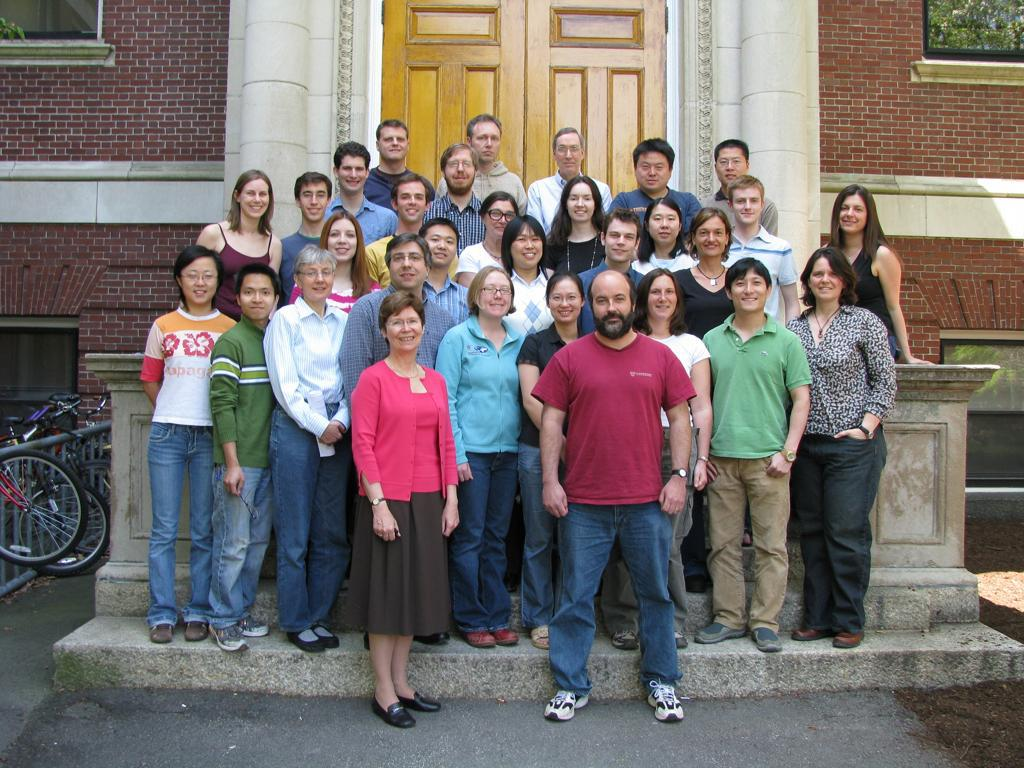face: (591, 282, 632, 334), (179, 261, 218, 303), (385, 310, 424, 350), (389, 246, 426, 286), (240, 278, 275, 320), (730, 275, 766, 311), (298, 261, 332, 299), (550, 284, 582, 323), (481, 276, 511, 317), (645, 280, 677, 318), (809, 264, 844, 298), (635, 154, 669, 189), (511, 229, 543, 266), (425, 228, 457, 265), (694, 220, 726, 256), (485, 204, 518, 238), (648, 208, 680, 243), (605, 224, 636, 260), (731, 188, 761, 224), (717, 150, 747, 186), (397, 185, 426, 221), (300, 184, 328, 221), (240, 184, 270, 218), (328, 224, 357, 259), (837, 199, 867, 232), (565, 187, 594, 221), (446, 155, 475, 189), (555, 138, 582, 173), (473, 127, 501, 160), (340, 158, 367, 192), (379, 131, 409, 159)
